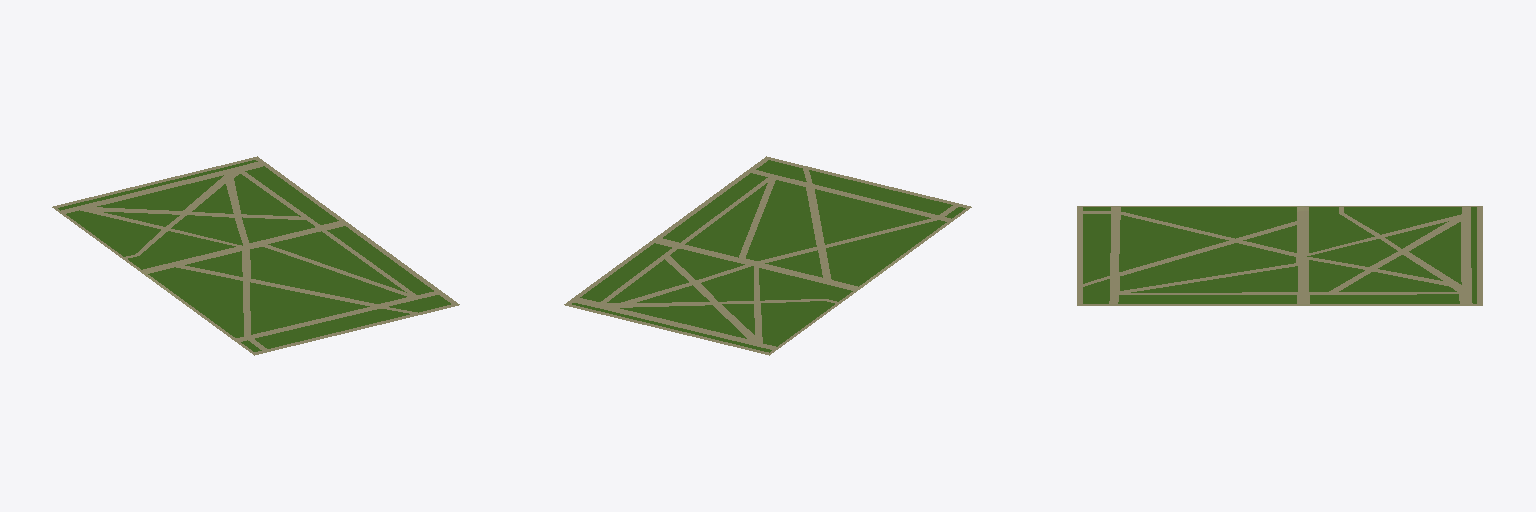
3 renders of one model, left to right at view 1: azimuth 30°, elevation 25°; view 2: azimuth 150°, elevation 25°; view 3: azimuth 270°, elevation 25°, orthographic.
Visible parts, largest first — view 1: UniFloor_Plane; view 2: UniFloor_Plane; view 3: UniFloor_Plane.
Boxes of the visible parts, x1=… form: UniFloor_Plane: x1=52, y1=156, x2=459, y2=355; UniFloor_Plane: x1=564, y1=156, x2=971, y2=355; UniFloor_Plane: x1=1077, y1=206, x2=1482, y2=305.
Size of the model in its own units: 131 by 0 by 224.
Materials: 1 (1 with a texture image).